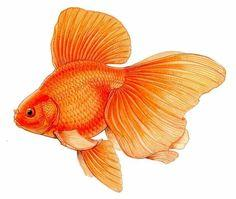goldfish: (12, 48, 206, 165)
